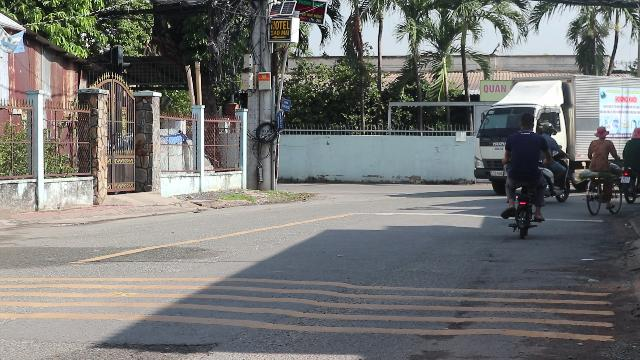motorcyclist: (496, 105, 552, 239)
nohelmet: (517, 111, 535, 131)
